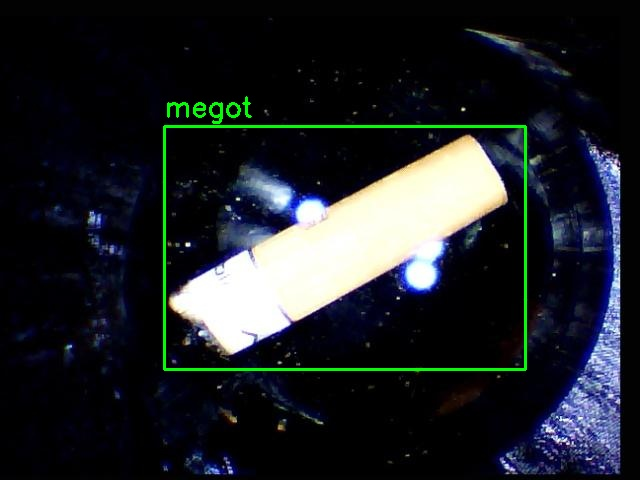megot: (164, 126, 525, 369)
